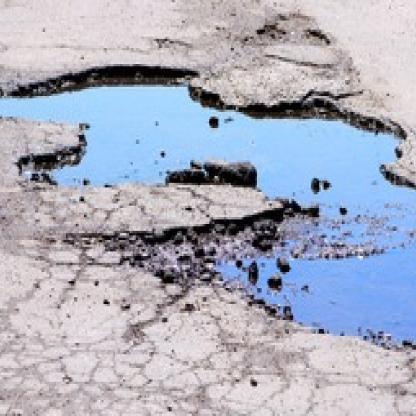pothole: (0, 64, 416, 347)
